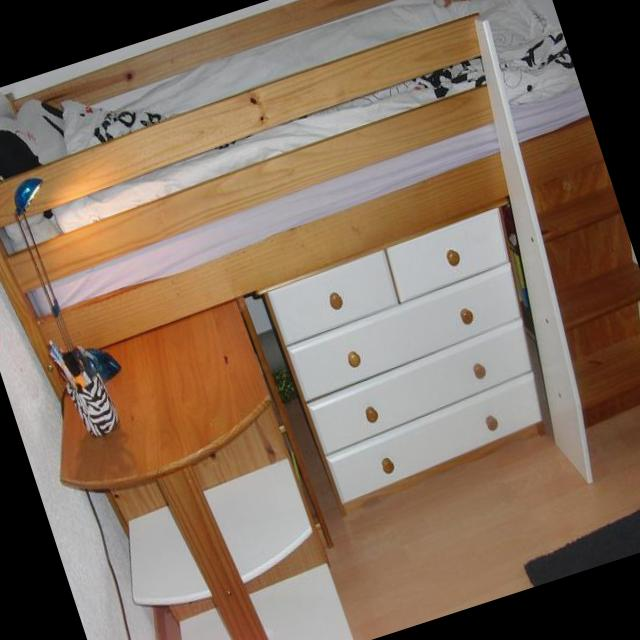bed: (0, 0, 640, 640)
teddy bear: (425, 0, 482, 15)
